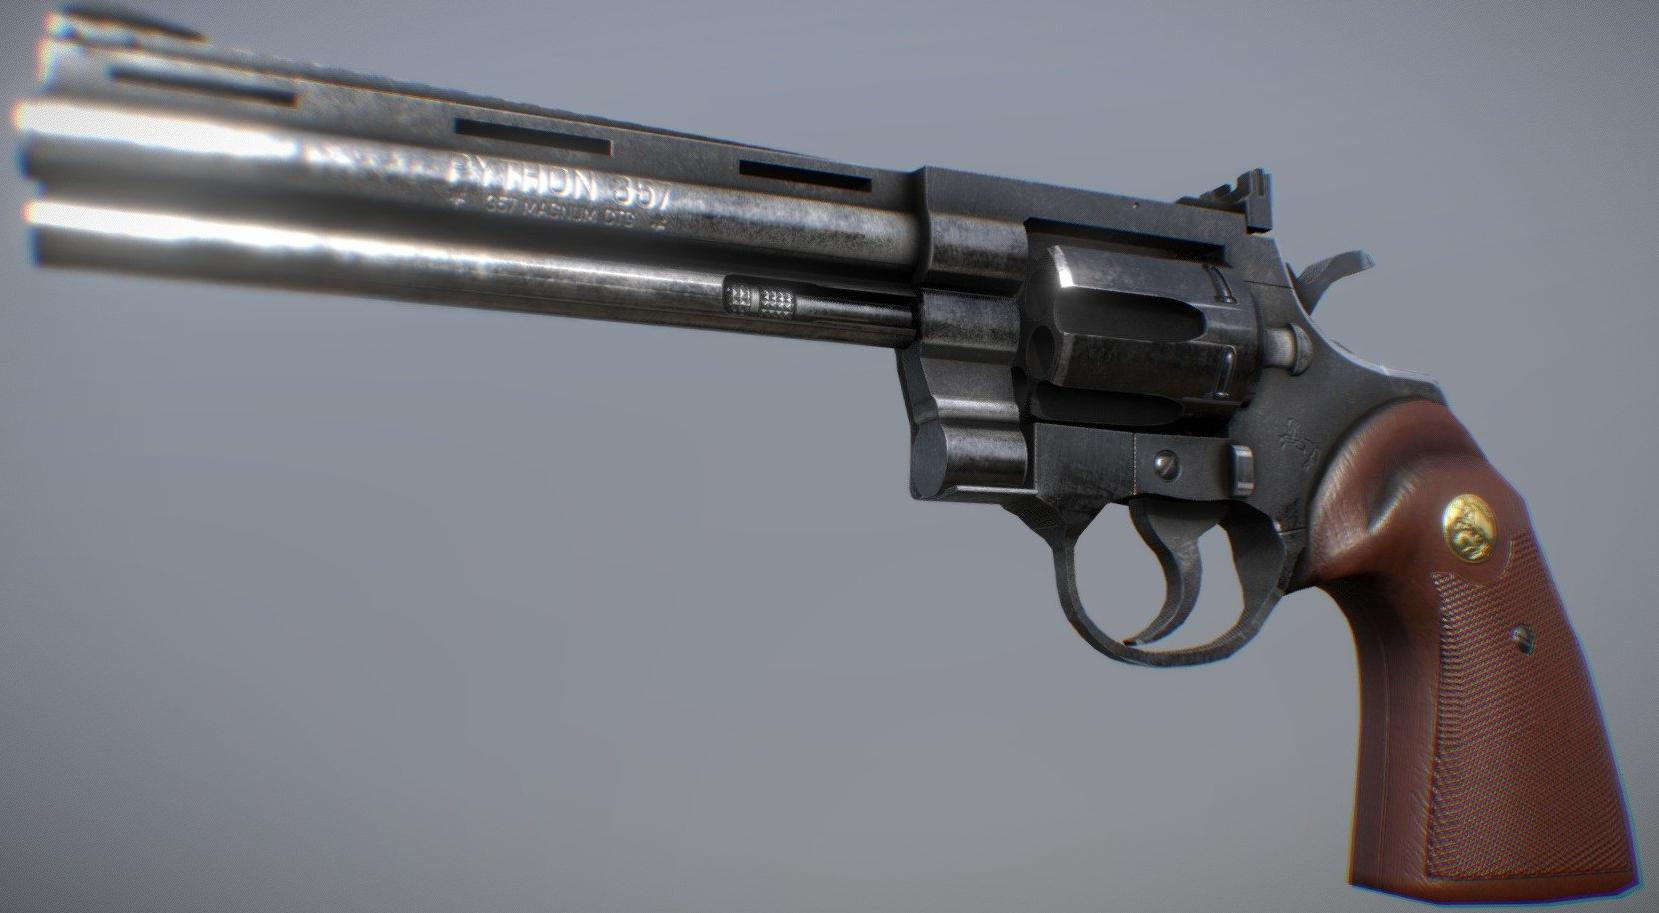gun: (0, 1, 1659, 913)
